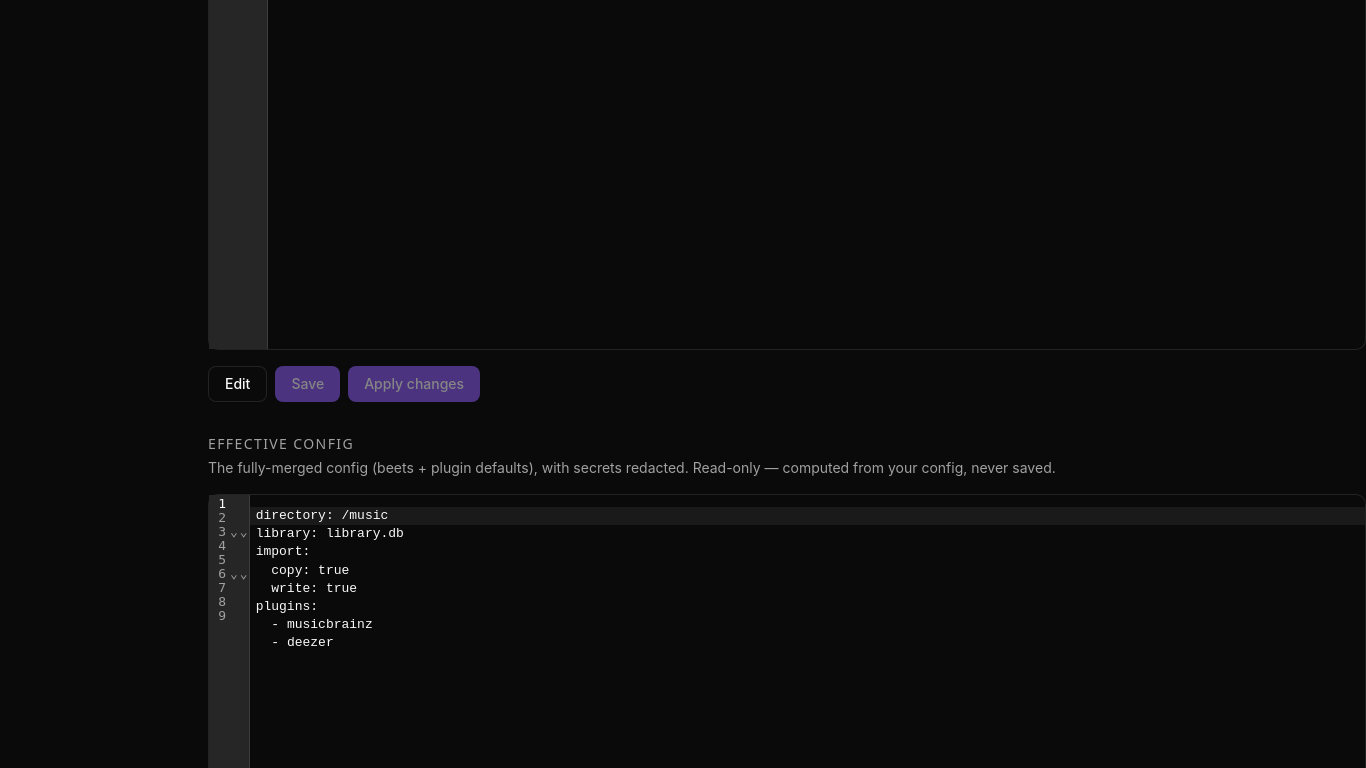
Scenario: SettingsPage › save success surfaces the apply_pending banner and enables Apply
(page scrolled)
Click the button "Edit" at (238, 384), box [208,366,267,402]
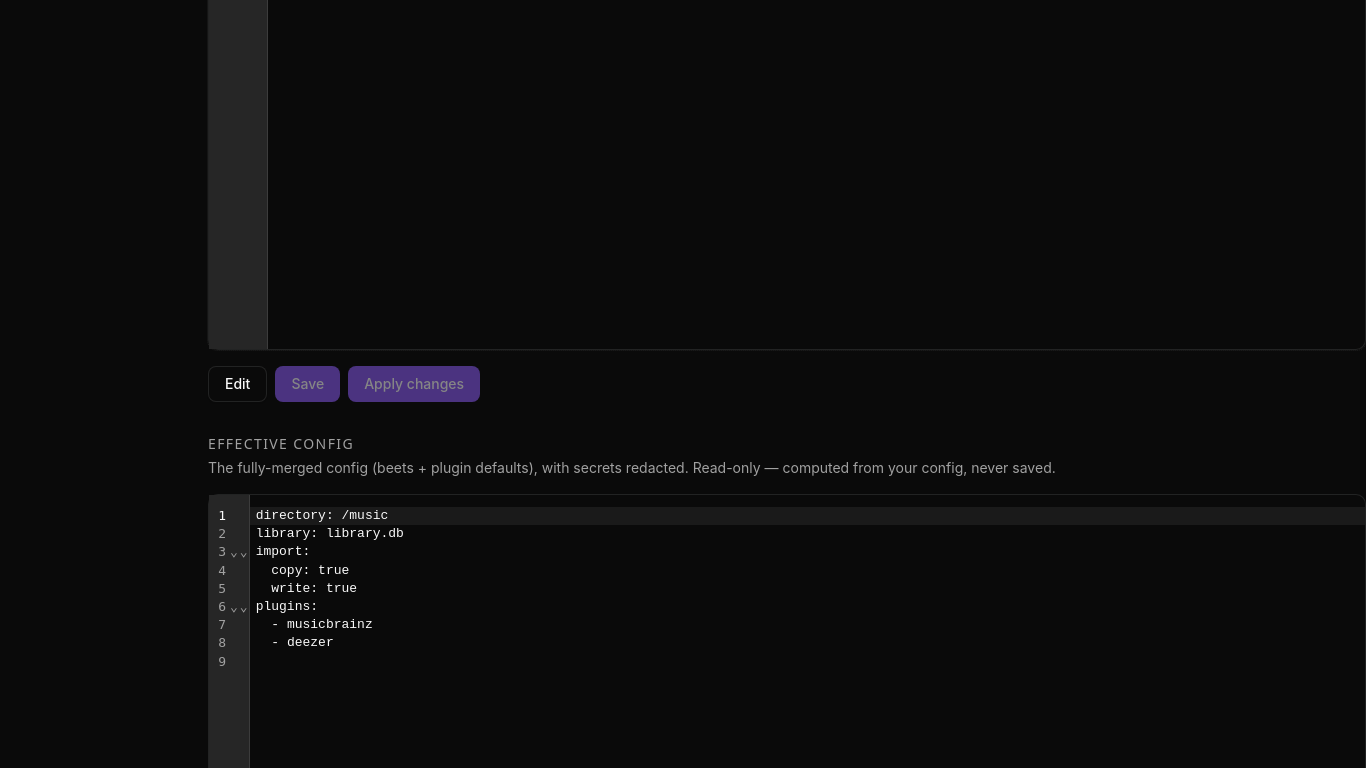
Type keys "y"
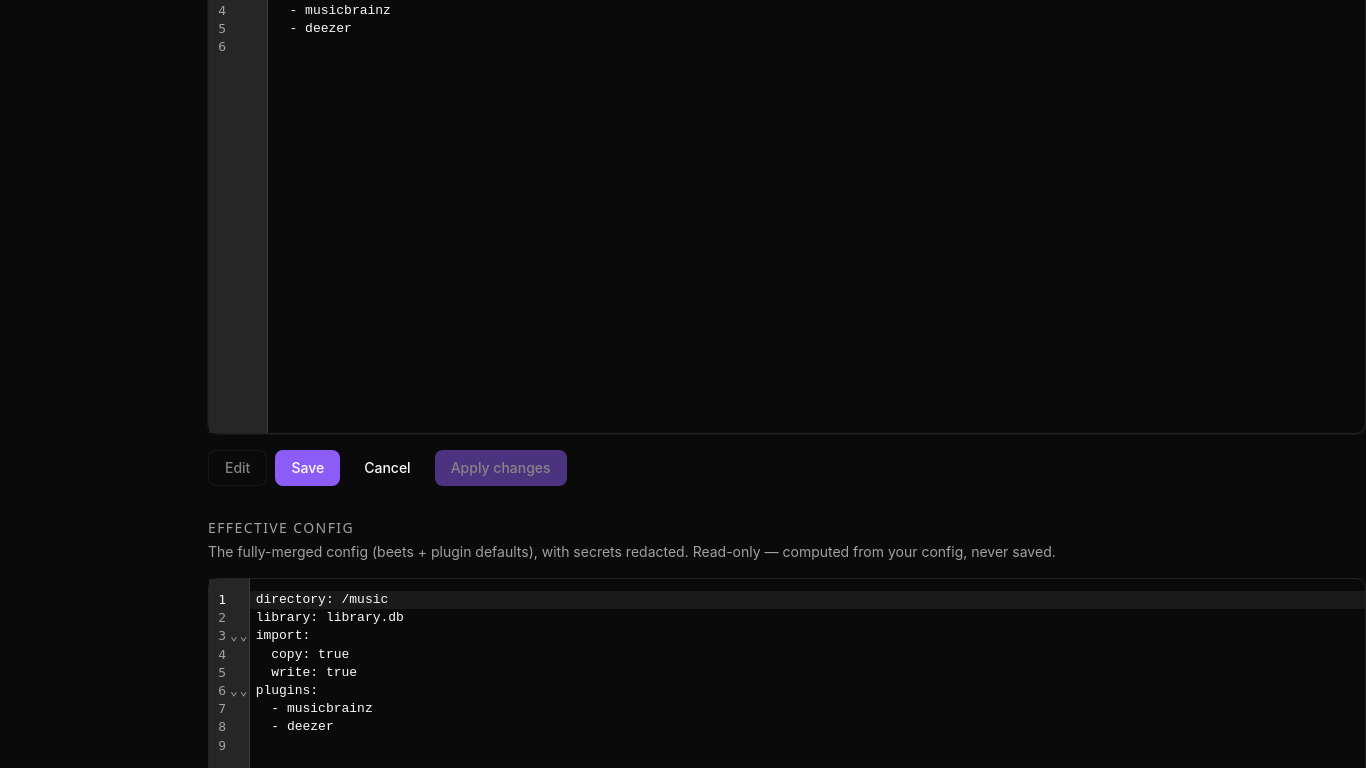
Click the button "Save" at (308, 468), box [275,450,340,486]
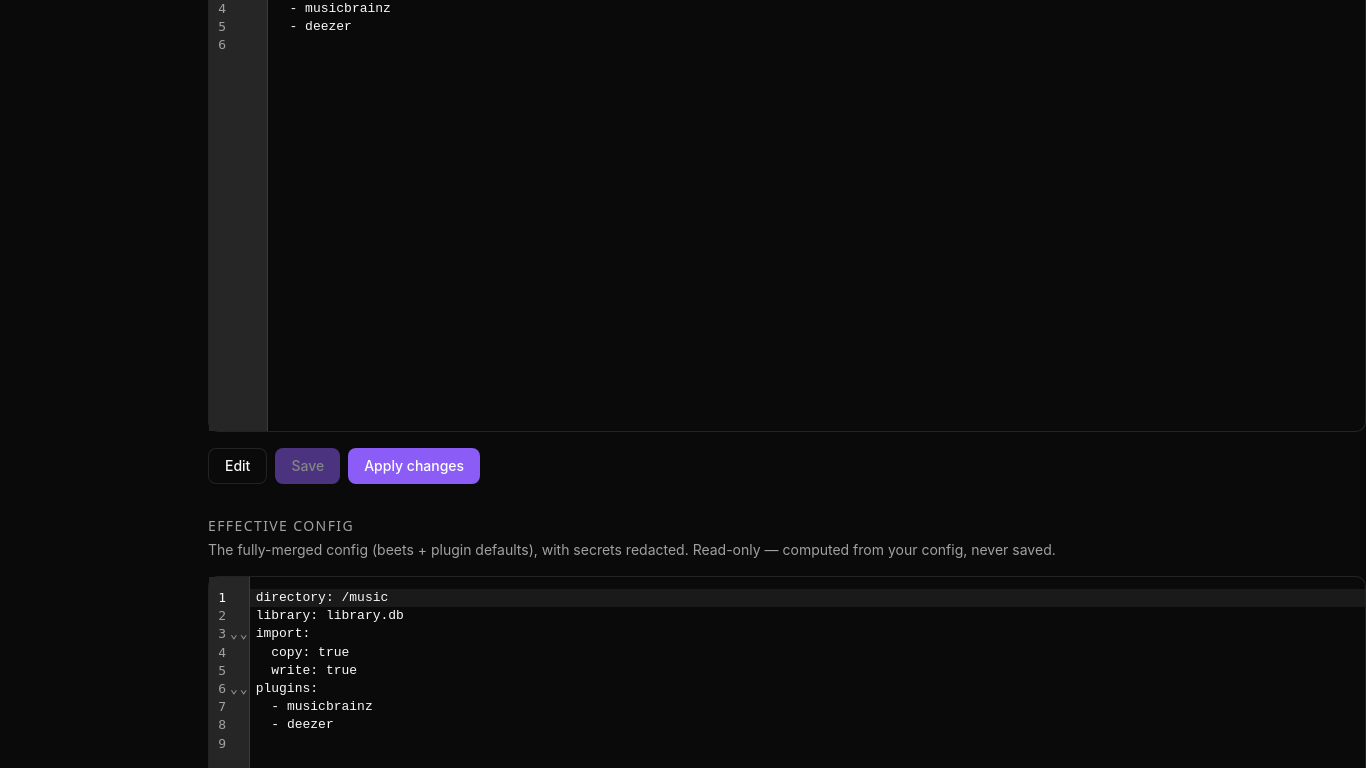
Expected: the button "Apply changes" is enabled, [348,448,480,484]
